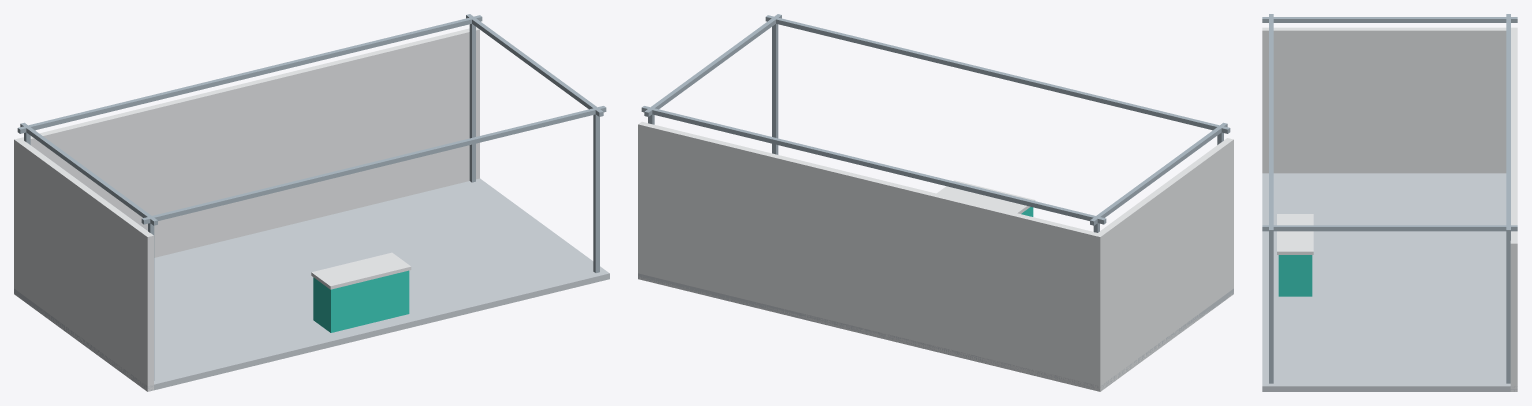
3 views of the same model, side by side, from view 1: azimuth 30°, elevation 25°; view 2: azimuth 150°, elevation 25°; view 3: azimuth 270°, elevation 25° (orthographic). The views are drawn at different scales.
Parts seen in each view (by area): view 1: Exhibition Booth Concept; view 2: Exhibition Booth Concept; view 3: Exhibition Booth Concept.
Part boxes in pixels (left/top/right/bottom): Exhibition Booth Concept: left=14, top=14, right=609, bottom=391; Exhibition Booth Concept: left=638, top=14, right=1233, bottom=391; Exhibition Booth Concept: left=1262, top=14, right=1517, bottom=391.
Bounding box in the file's own units: 10 × 3.49 × 5.
